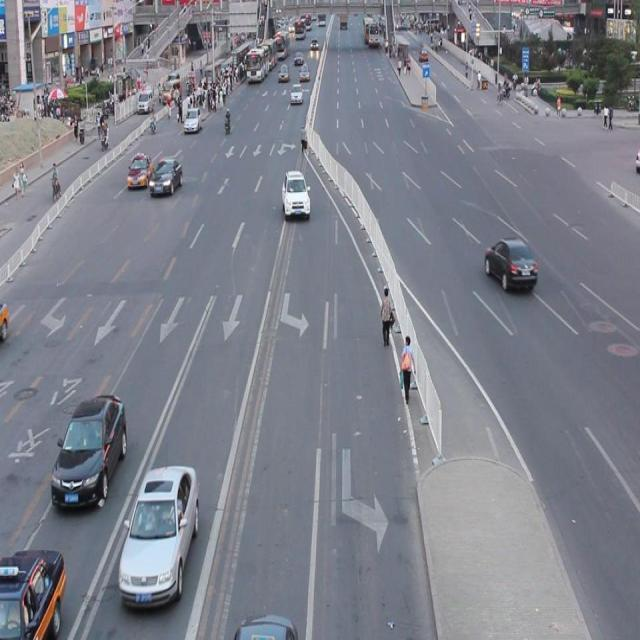car: (117, 461, 200, 608), (51, 389, 127, 509), (1, 545, 68, 640), (484, 235, 536, 291), (233, 609, 297, 640), (281, 169, 311, 220), (147, 155, 182, 196), (127, 150, 152, 191)
